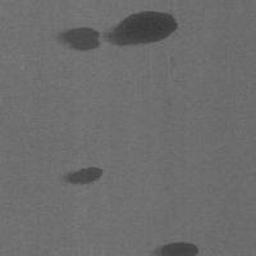Oil spot: (51, 9, 180, 52), (59, 165, 105, 187), (146, 241, 201, 256)
